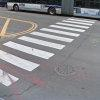Crosswalk: (1, 33, 62, 83)
